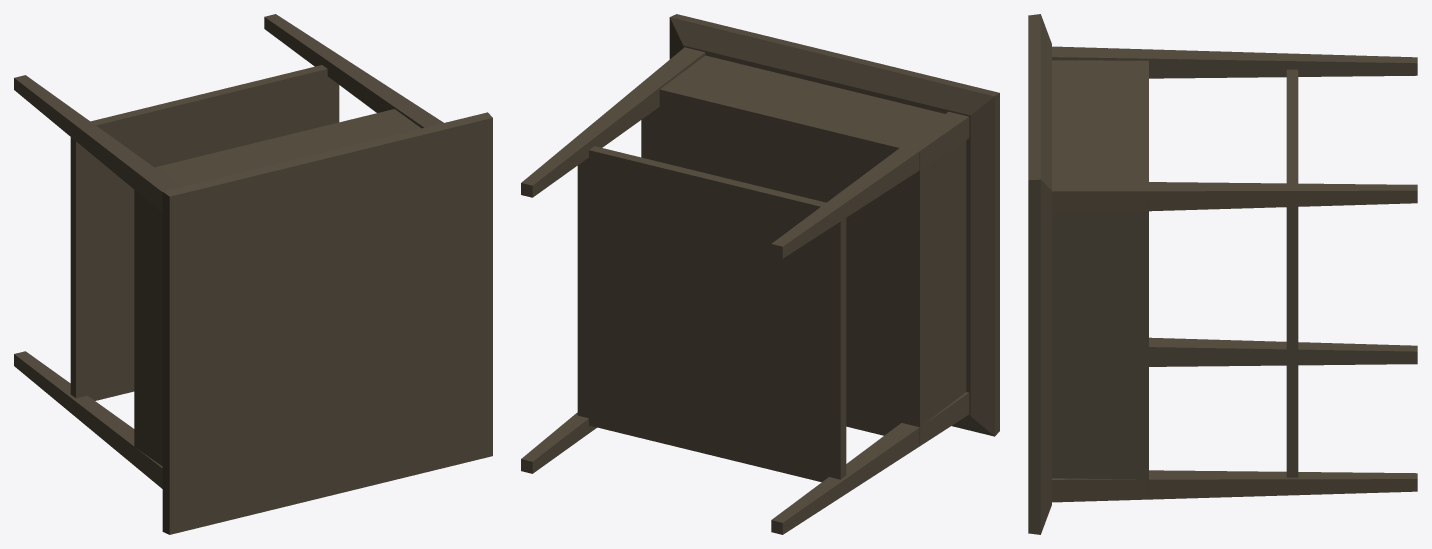
File: nightstand-2.obj
The picture shows the model from 3 angles, left to right: view 1: azimuth 30°, elevation 25°; view 2: azimuth 150°, elevation 25°; view 3: azimuth 270°, elevation 25°; orthographic projection. The views are drawn at different scales.
Visible parts, largest first — view 1: nightstand-2; view 2: nightstand-2; view 3: nightstand-2.
Part boxes in pixels (x1,y1,x2,y2): nightstand-2: [14, 14, 492, 534]; nightstand-2: [521, 14, 999, 534]; nightstand-2: [1028, 14, 1417, 534].
Size of the model in its own units: 24.18 by 24.18 by 24.
